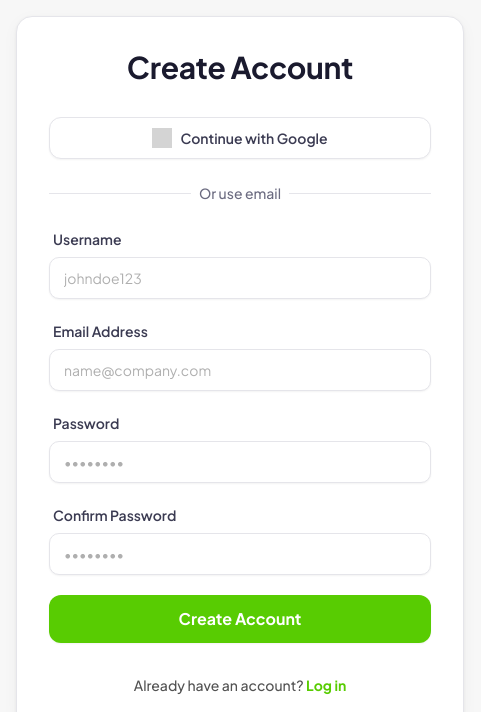
SignupForm › validates password complexity (Regex/zxcvbn)
The width and height of the screenshot is (481, 712).
Type "testuser" into the field labelled "Username".
click(240, 278); type("testuser")  # box [49,257,431,299]
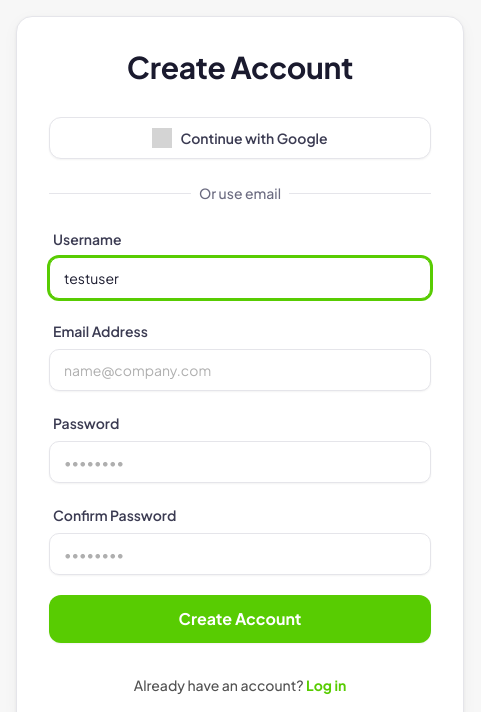
Type "test@example.com" into the field labelled "Email Address".
click(240, 370); type("test@example.com")  # box [49,349,431,391]
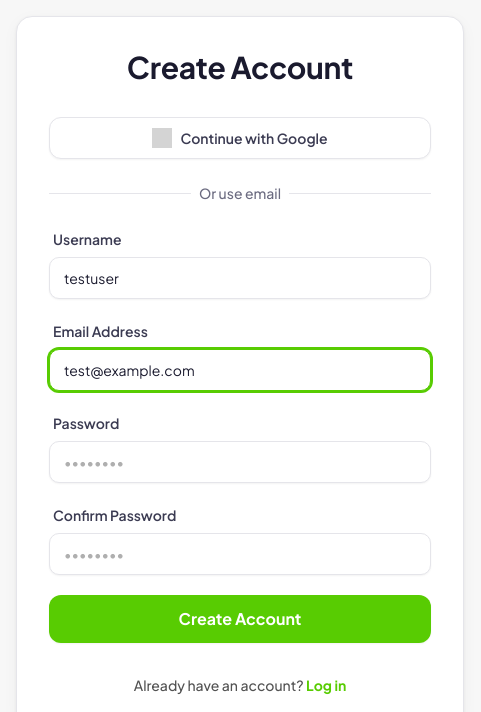
# Using a weak password that fails your component's regex/strength check
Type "123" into the password field labelled "Password".
click(240, 462); type("123")  # box [49,441,431,483]
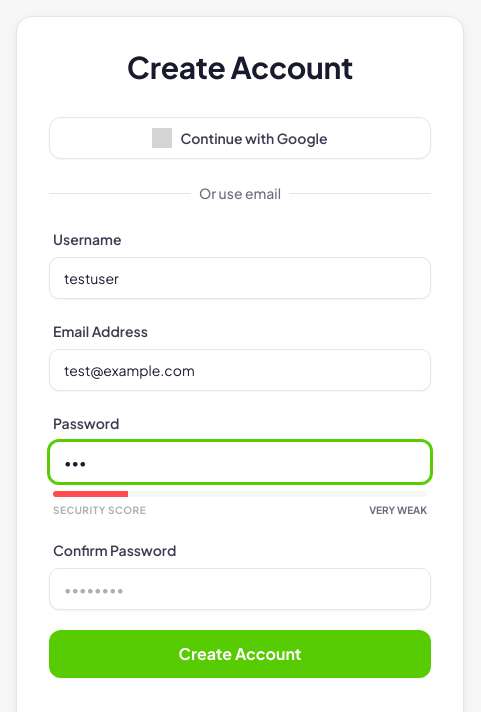
Type "123" into the password field labelled "Confirm Password".
click(240, 589); type("123")  # box [49,568,431,610]
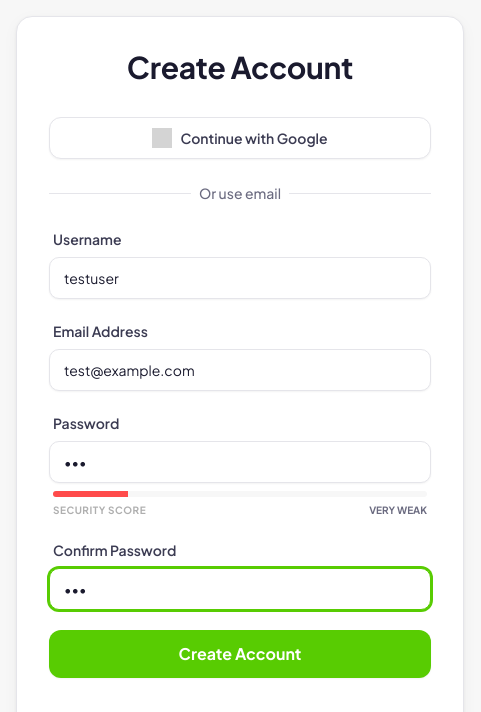
Click the button "Create Account".
click(240, 654)  # box [49,630,431,678]
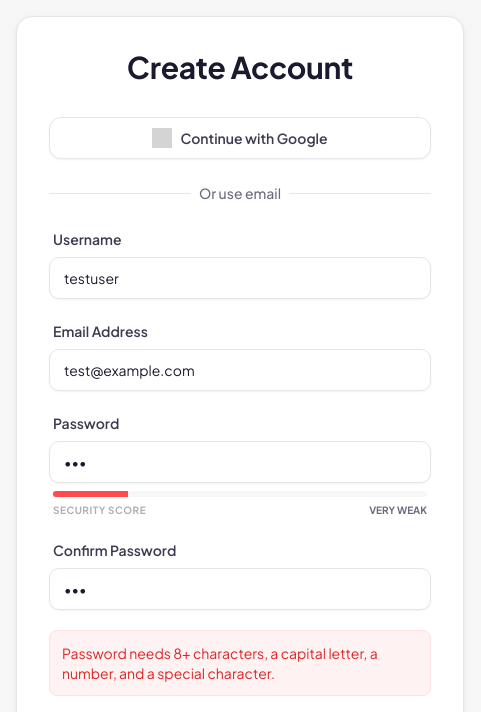
expect the text "Password needs 8+ characters" is shown: met, box [62,644,378,682]
